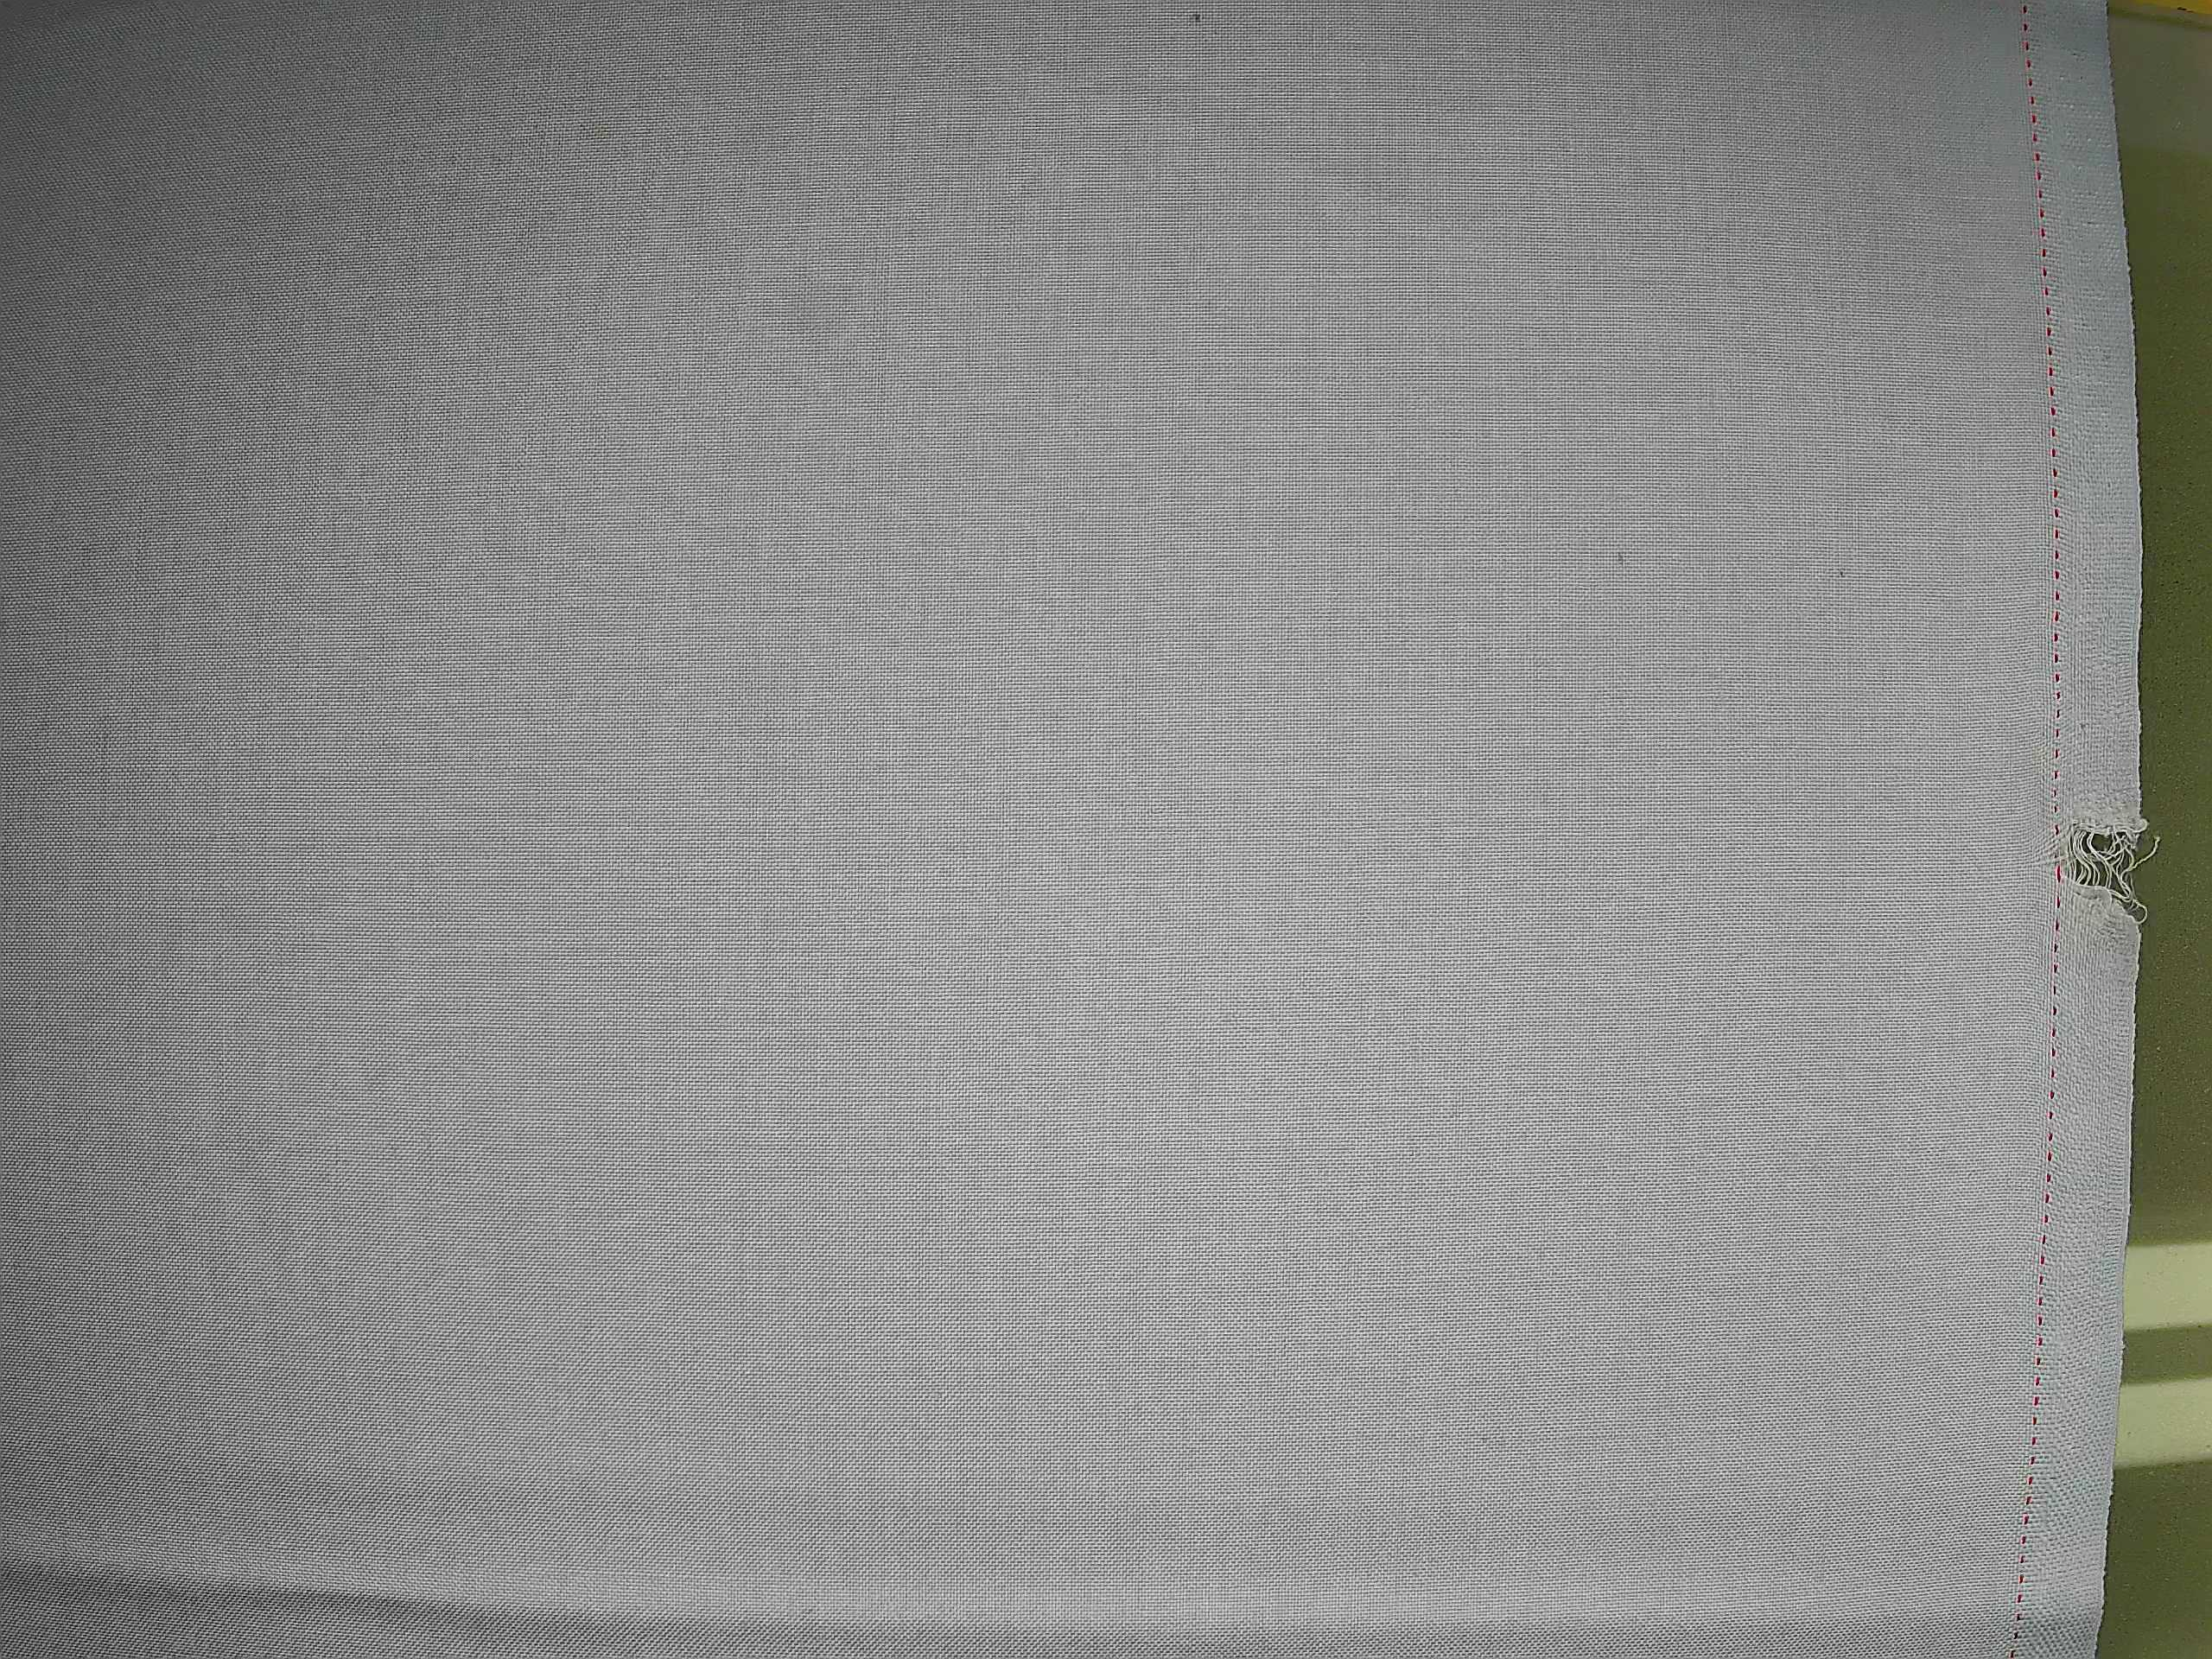others: (2015, 751, 2165, 986)
